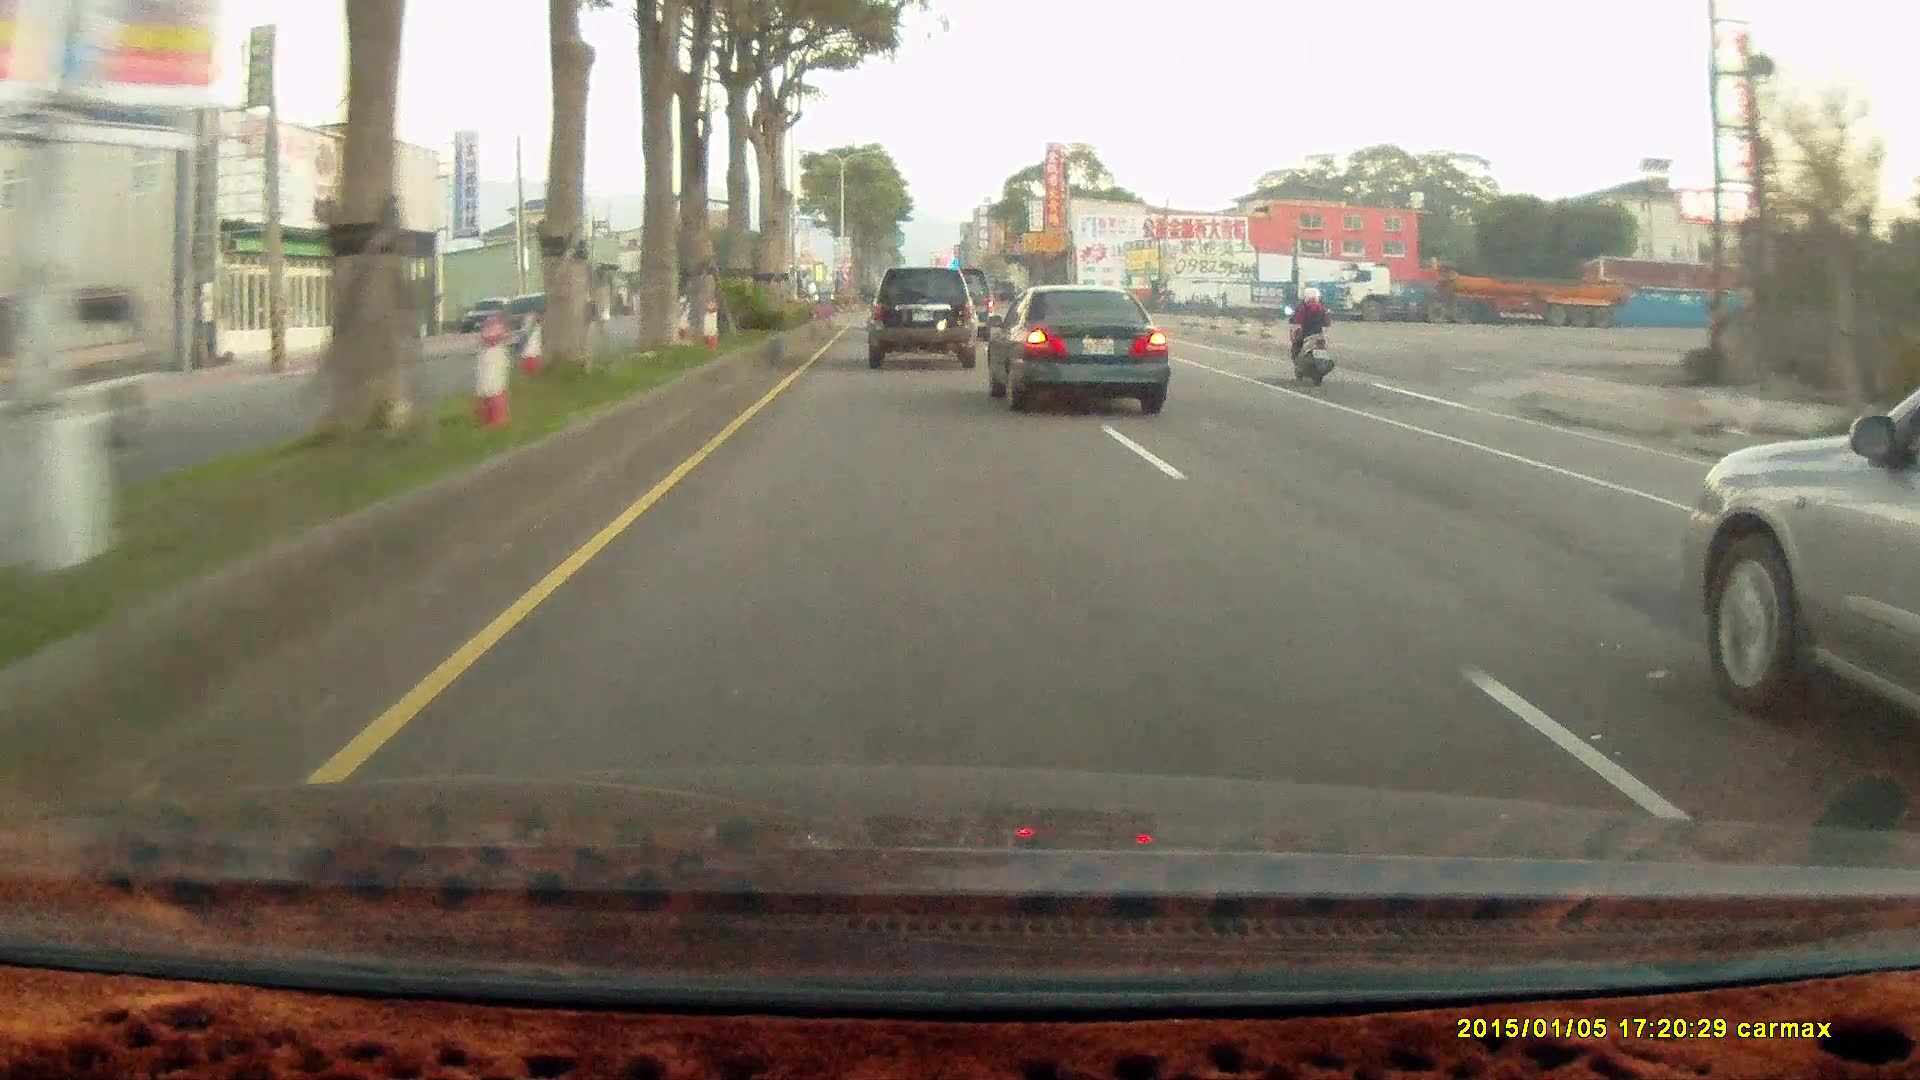rider: (1273, 276, 1346, 398), (1284, 284, 1334, 385)
vehicle: (1692, 378, 1920, 748), (0, 284, 155, 459), (1, 285, 156, 460), (985, 284, 1169, 413), (985, 285, 1171, 412), (1340, 260, 1627, 328), (867, 266, 980, 373), (864, 266, 976, 367), (485, 293, 586, 357), (926, 270, 997, 345), (464, 294, 519, 332)
